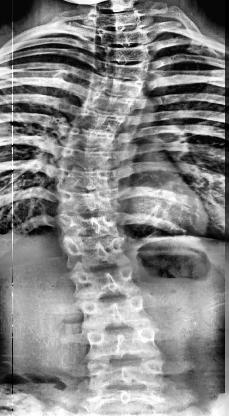Vertebrae: (84, 359, 168, 393), (82, 326, 162, 360), (77, 296, 151, 332), (70, 266, 138, 302), (59, 236, 129, 270), (61, 122, 141, 150), (54, 168, 132, 194), (55, 211, 127, 238), (70, 106, 144, 132), (58, 146, 132, 172), (55, 191, 129, 215), (80, 91, 148, 117), (88, 72, 148, 100), (94, 42, 154, 64), (92, 59, 152, 81), (97, 26, 152, 48)
